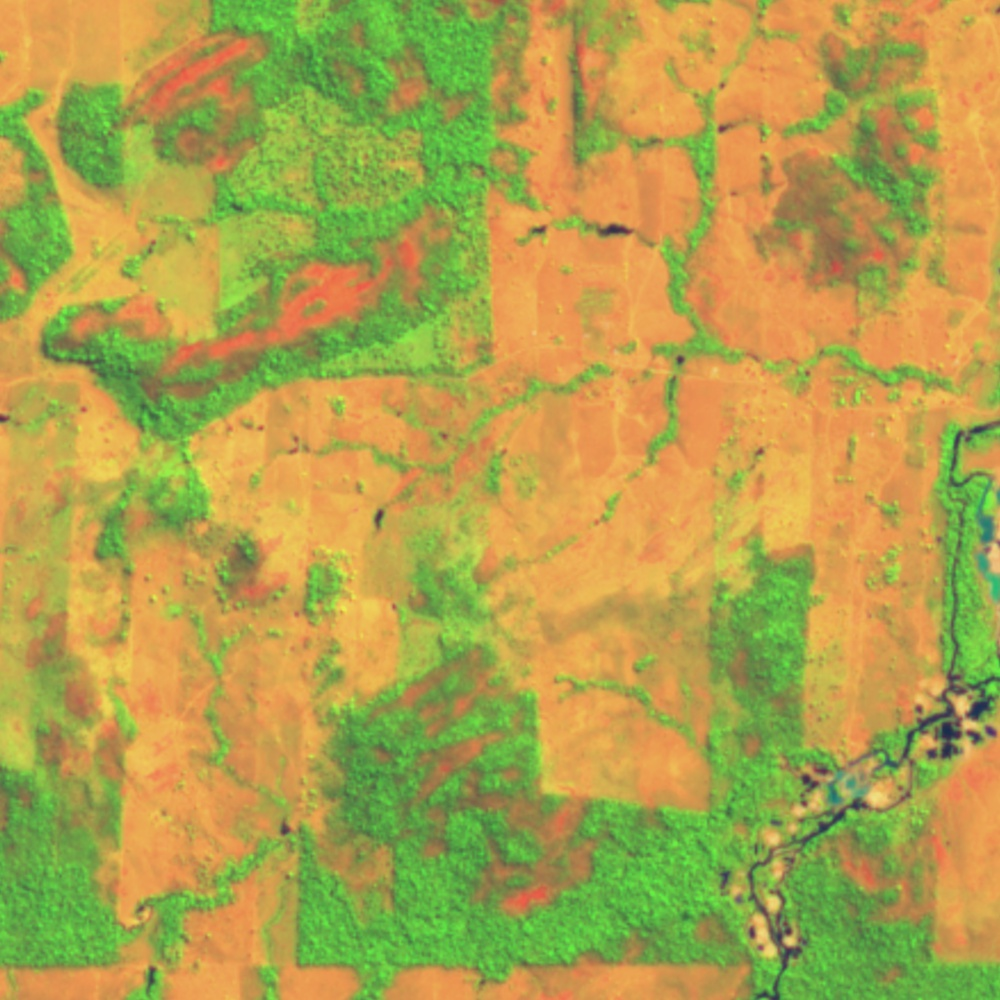illegal: (714, 660, 1000, 968), (950, 469, 1000, 656), (123, 896, 172, 1000), (525, 213, 646, 249)
